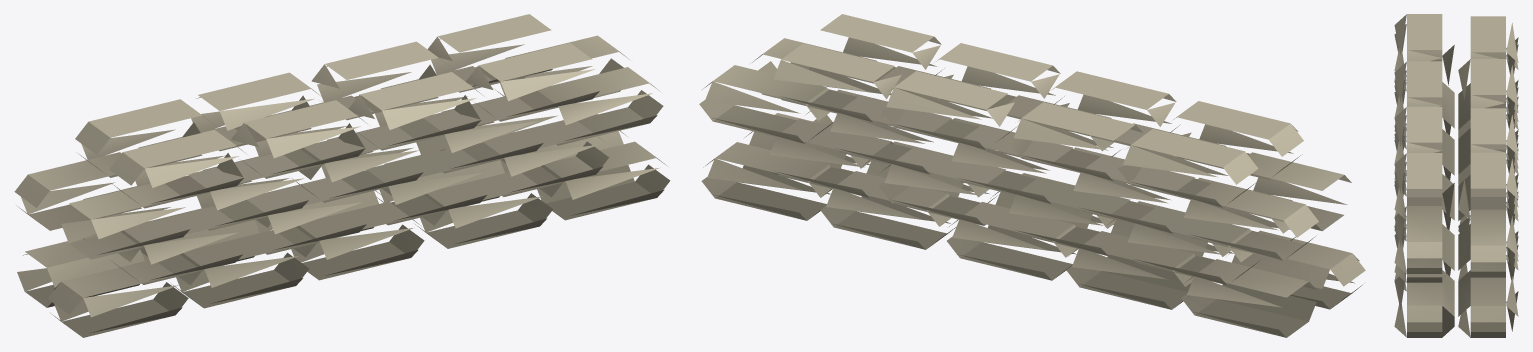
The model's file is mil_sandbags.lod.glb.
3 views of the same model, side by side, from view 1: azimuth 30°, elevation 25°; view 2: azimuth 150°, elevation 25°; view 3: azimuth 270°, elevation 25° (orthographic). The views are drawn at different scales.
Visible parts, largest first — view 1: mil_sandbags; view 2: mil_sandbags; view 3: mil_sandbags.
Boxes of the visible parts, x1=… form: mil_sandbags: x1=14, y1=14, x2=670, y2=337; mil_sandbags: x1=699, y1=14, x2=1365, y2=337; mil_sandbags: x1=1394, y1=14, x2=1518, y2=337.
Bounding box in the file's own units: 3.15 × 0.77 × 0.7.
